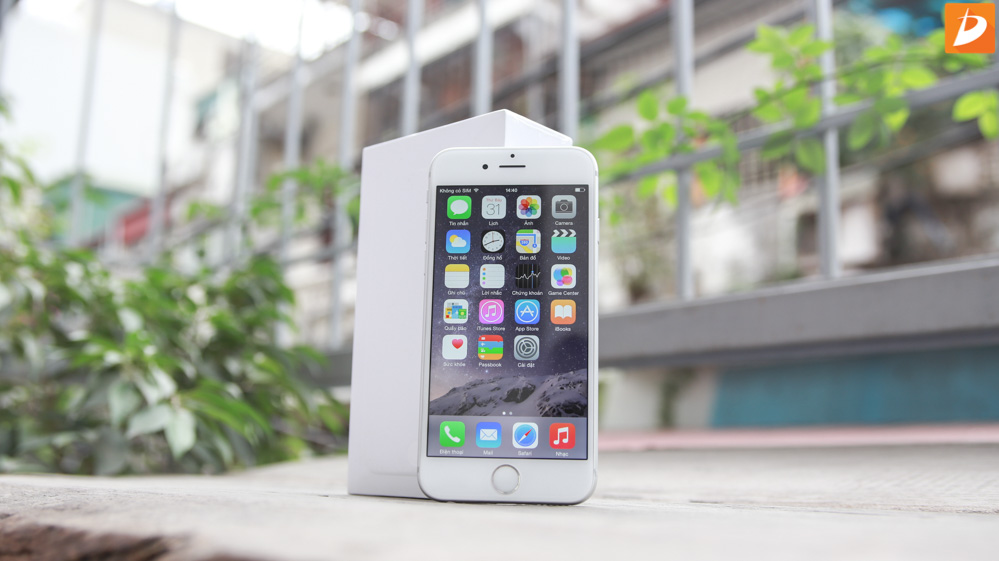iphone: (410, 150, 612, 511)
iphone6: (408, 148, 610, 509)
